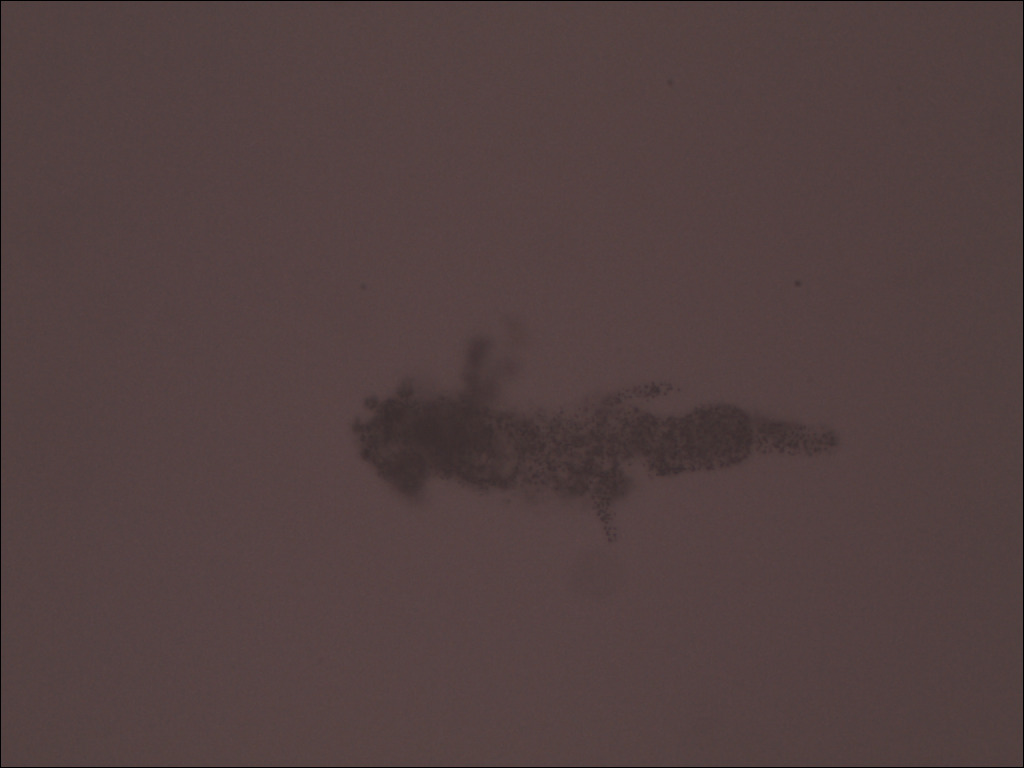amoeba: (341, 325, 877, 552)
